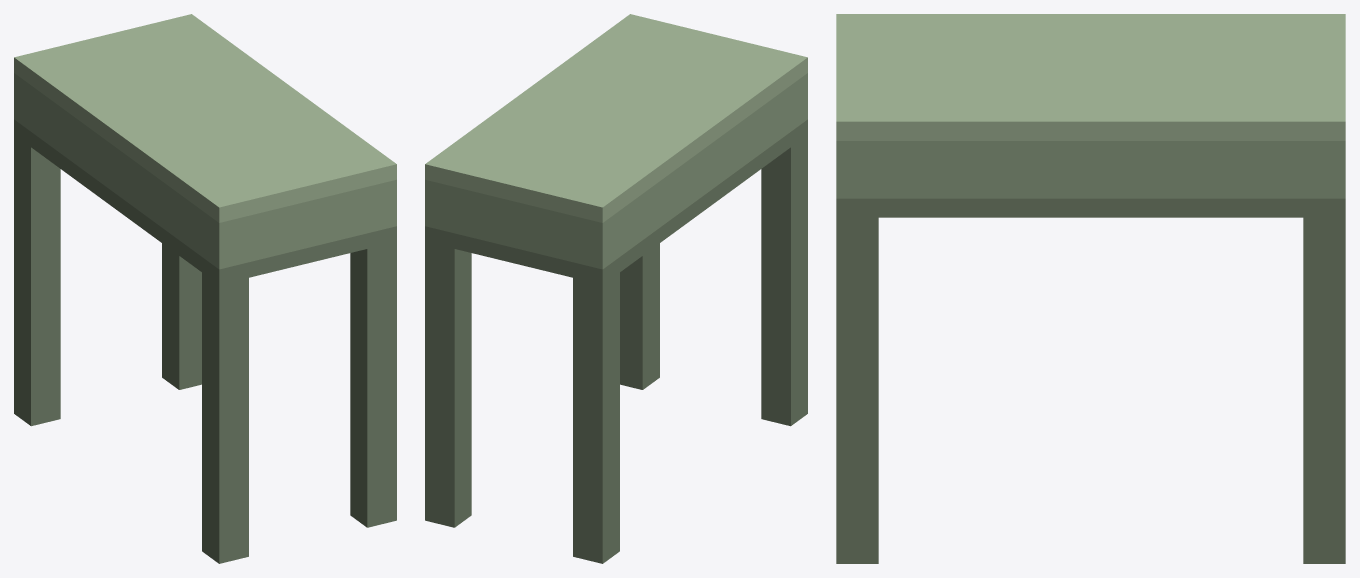
Rendered from mesa_juegos_01.glb.
3 renders of one model, left to right at view 1: azimuth 30°, elevation 25°; view 2: azimuth 150°, elevation 25°; view 3: azimuth 270°, elevation 25°, orthographic. The views are drawn at different scales.
Visible parts, largest first — view 1: mesa_juegos; view 2: mesa_juegos; view 3: mesa_juegos.
Boxes of the visible parts, left/top/right/bottom form: mesa_juegos: left=14, top=14, right=396, bottom=563; mesa_juegos: left=425, top=14, right=807, bottom=563; mesa_juegos: left=836, top=14, right=1345, bottom=563.
Bounding box in the file's own units: 1 × 1.92 × 2.
